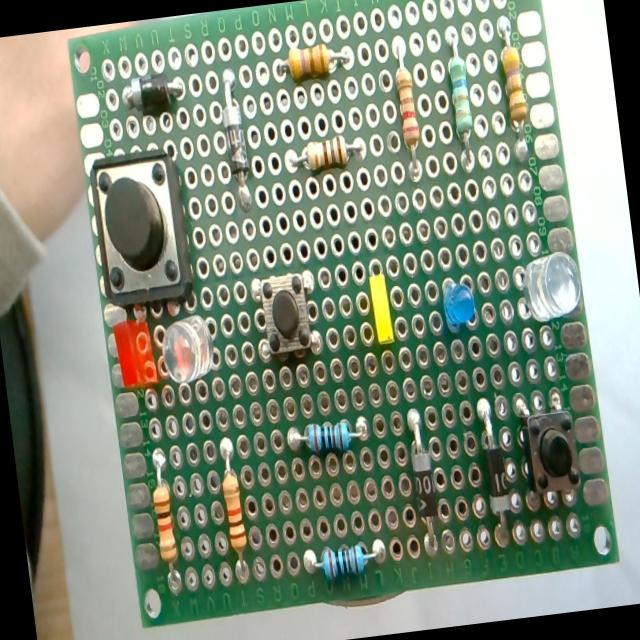diode: (405, 405, 444, 550), (217, 69, 255, 214), (474, 394, 512, 530), (121, 68, 183, 114)
led: (517, 249, 585, 325), (158, 312, 216, 384), (112, 314, 159, 389), (440, 277, 480, 334), (368, 268, 394, 345)
resistor: (146, 446, 183, 590), (216, 436, 252, 577), (496, 17, 533, 154), (391, 45, 425, 175), (444, 34, 476, 166), (303, 538, 387, 582), (286, 414, 368, 458), (288, 134, 364, 176), (276, 41, 352, 83)
switch: (87, 150, 194, 307), (518, 404, 581, 501), (257, 271, 315, 358)
